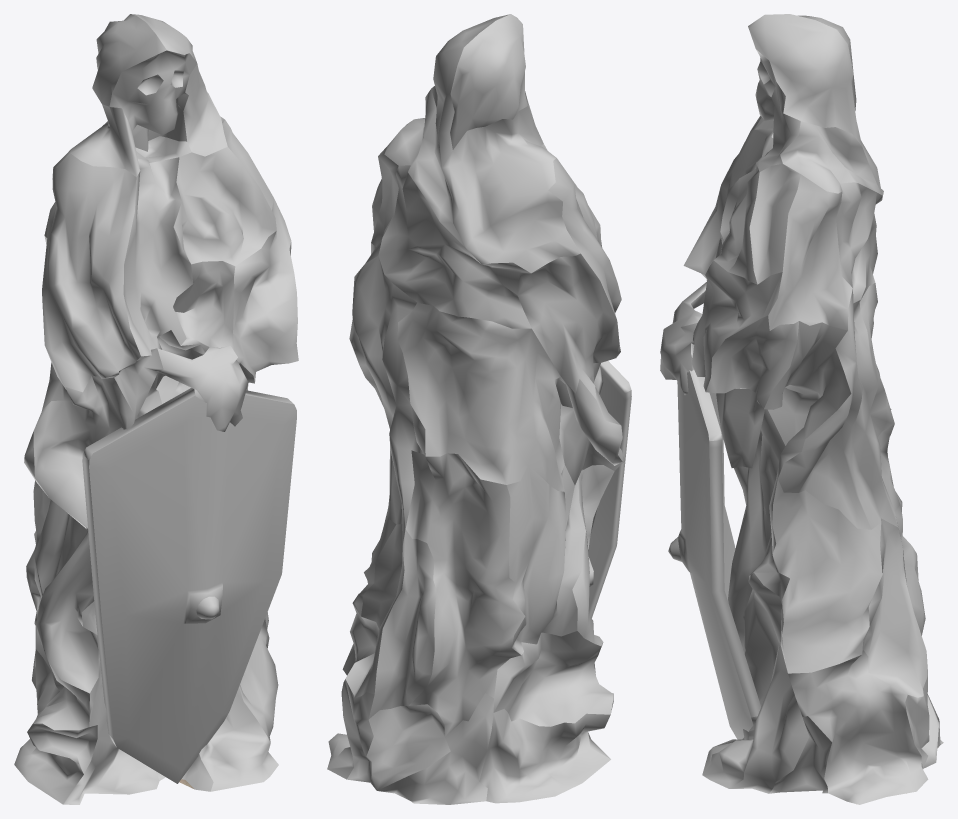
The picture shows the model from 3 angles, left to right: view 1: azimuth 30°, elevation 25°; view 2: azimuth 150°, elevation 25°; view 3: azimuth 270°, elevation 25°; orthographic projection. The views are drawn at different scales.
Parts seen in each view (by area): view 1: SM_Statue07_LOD0; view 2: SM_Statue07_LOD0; view 3: SM_Statue07_LOD0.
Boxes of the visible parts, x1,y1,x2,y2 form: SM_Statue07_LOD0: [14, 14, 298, 804]; SM_Statue07_LOD0: [327, 14, 631, 804]; SM_Statue07_LOD0: [660, 14, 943, 804].
Size of the model in its own units: 0.7394 by 2.02 by 0.7136.
